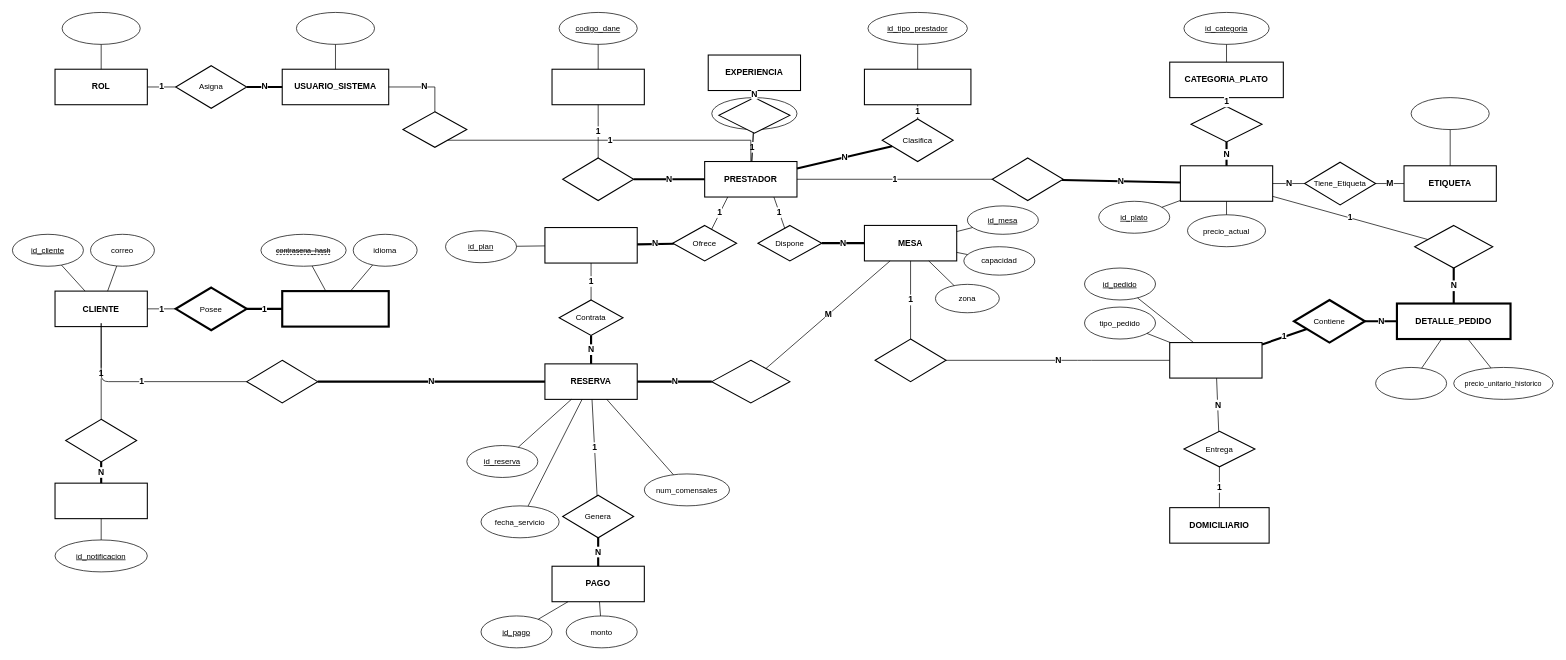
Image size: 1566x660. Some labels were removed from this diagram. The shapes that lost their labels are listed below. From the top down, each one's box as (x1, y1, x2, y2) in pixels, then its label:
(61, 12, 140, 44): id_rol
(296, 12, 375, 44): id_usuario
(551, 68, 645, 105): MUNICIPIO
(864, 68, 971, 105): TIPO_PRESTADOR
(402, 111, 467, 148): Gestiona
(711, 97, 797, 130): id_prestador
(718, 97, 790, 133): Brinda
(1190, 106, 1262, 142): Agrupa
(1410, 97, 1489, 130): id_etiqueta
(562, 157, 634, 201): Ubica
(991, 157, 1063, 201): Prepara
(1180, 165, 1273, 201): PLATO
(544, 227, 637, 263): PLAN
(1414, 225, 1493, 268): Factura
(281, 290, 389, 327): PERFIL_CLIENTE
(874, 338, 946, 382): Atiende
(1169, 342, 1262, 378): PEDIDO
(246, 359, 318, 403): Realiza
(711, 359, 790, 403): Asigna_Mesa
(1375, 367, 1447, 399): num_linea
(65, 418, 137, 462): Recibe
(54, 482, 148, 519): NOTIFICACION
